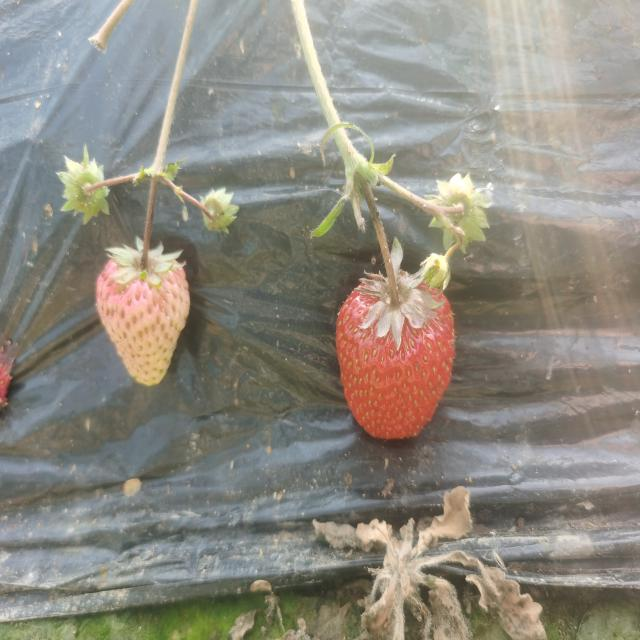stem: (377, 229, 403, 307), (140, 199, 155, 272)
strawberry: (337, 275, 455, 439), (96, 248, 190, 384)
